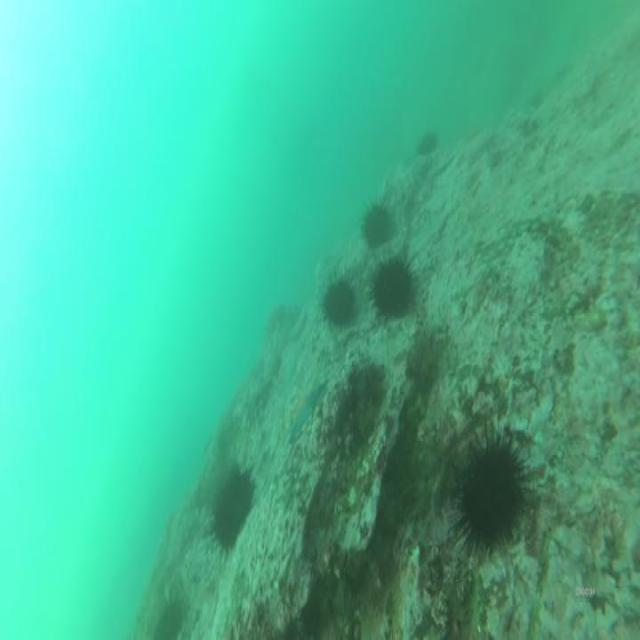echinus: (461, 442, 520, 548), (212, 476, 252, 544), (372, 262, 412, 316), (322, 283, 353, 324), (362, 205, 393, 245)
starfish: (292, 381, 324, 439)
